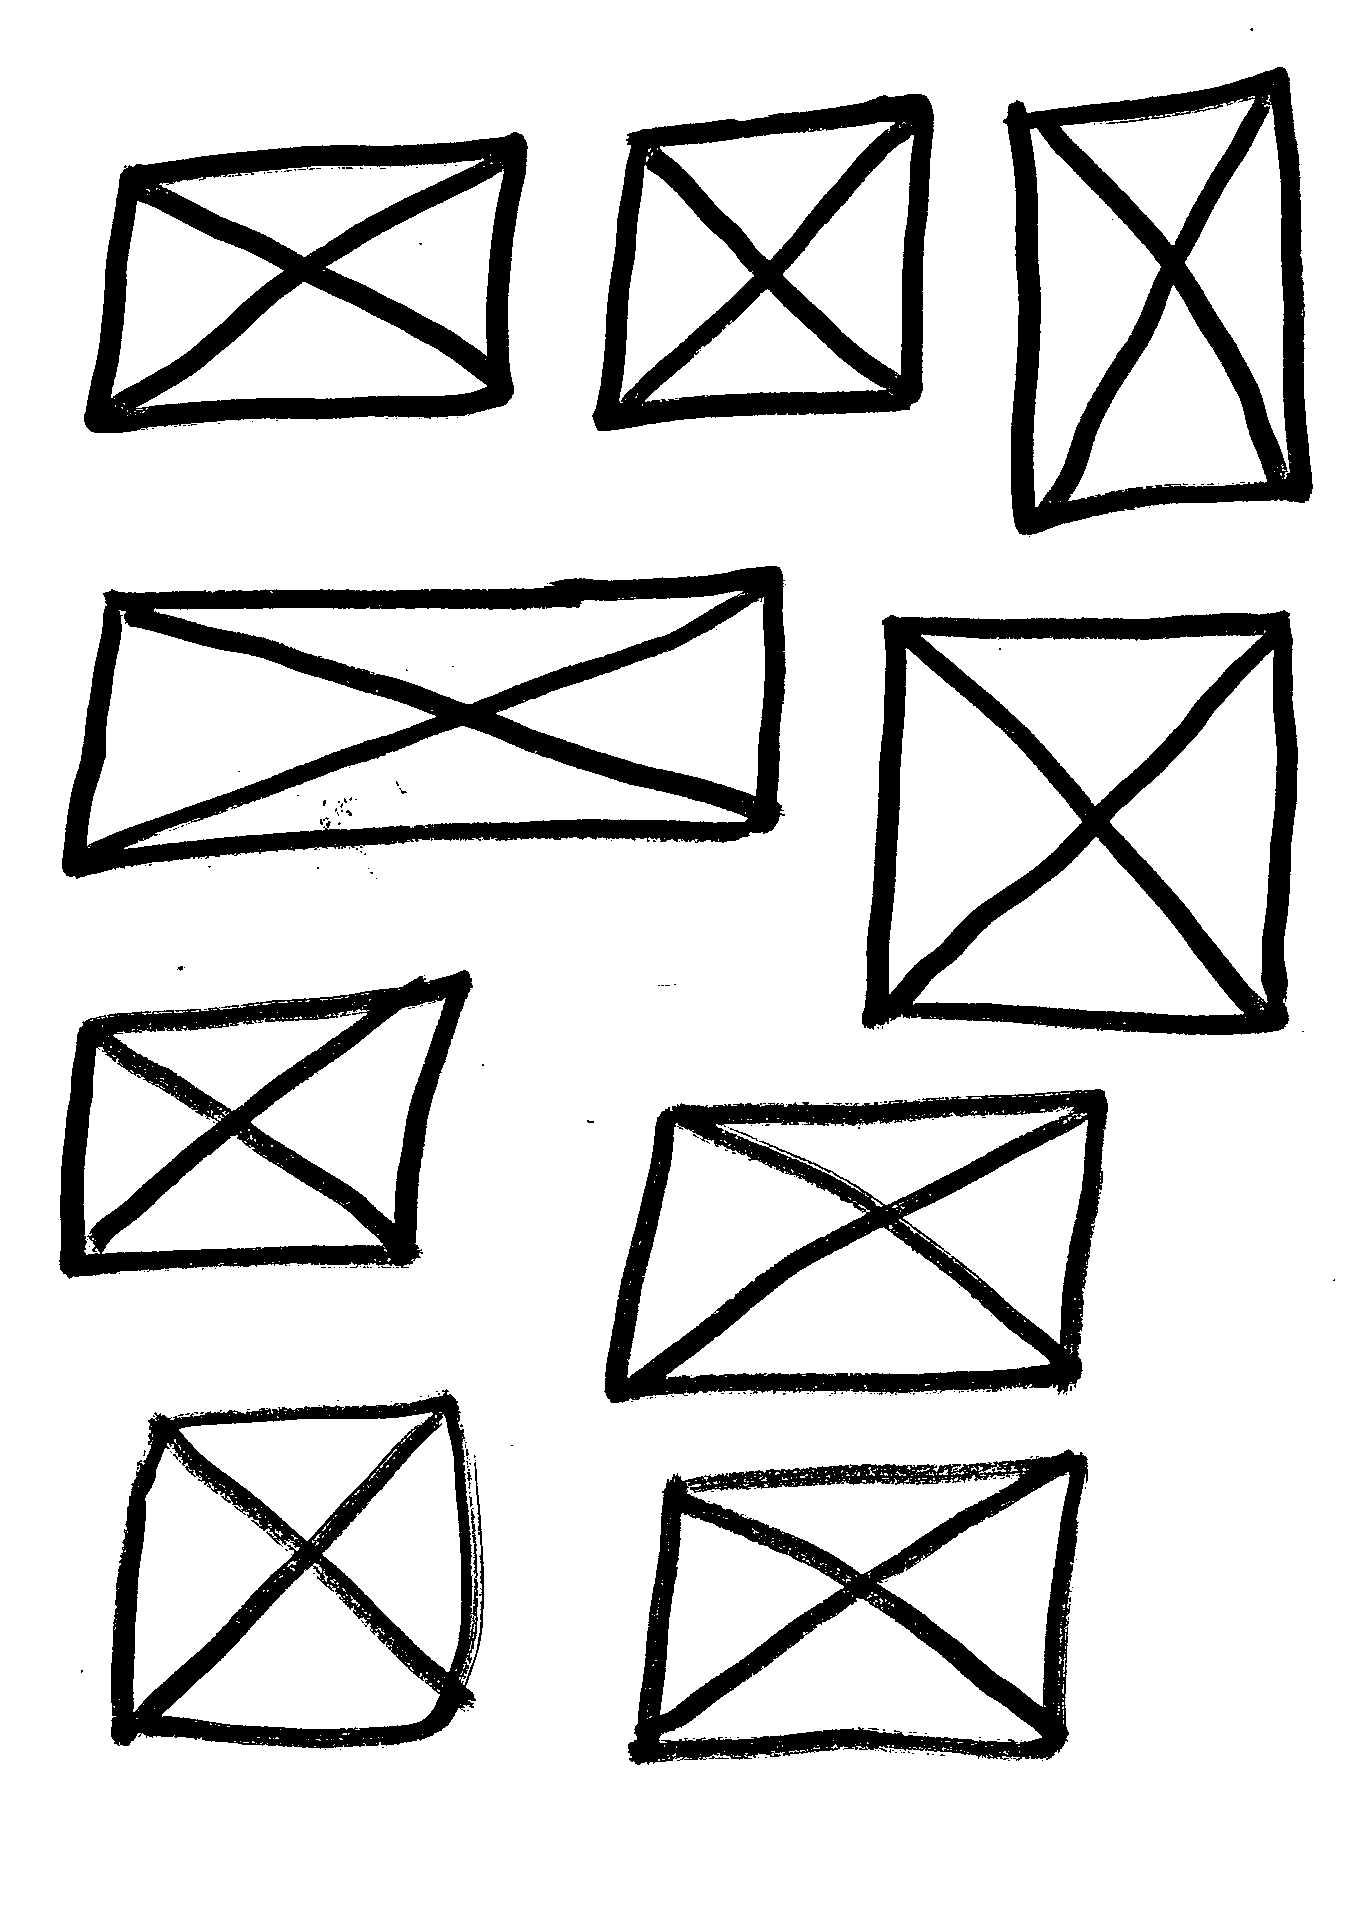Image: (53, 553, 792, 883), (850, 600, 1302, 1038), (594, 1082, 1118, 1412), (621, 1448, 1098, 1782), (999, 56, 1325, 544), (83, 126, 534, 447), (101, 1388, 483, 1759), (47, 967, 480, 1288), (588, 84, 939, 441)
